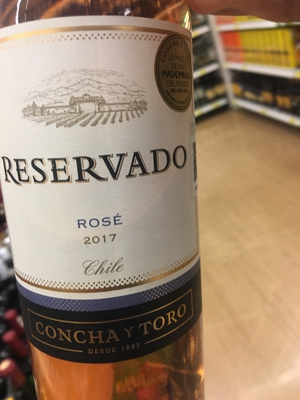reservado rose: (2, 5, 212, 395)
